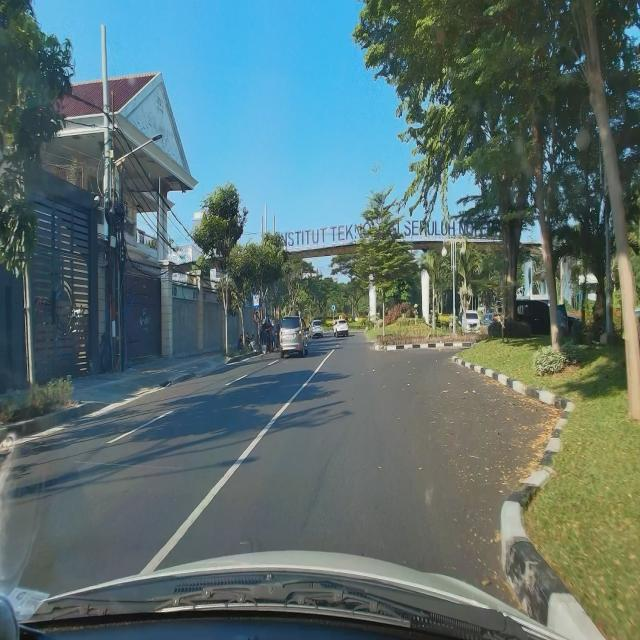car: (278, 315, 310, 357)
